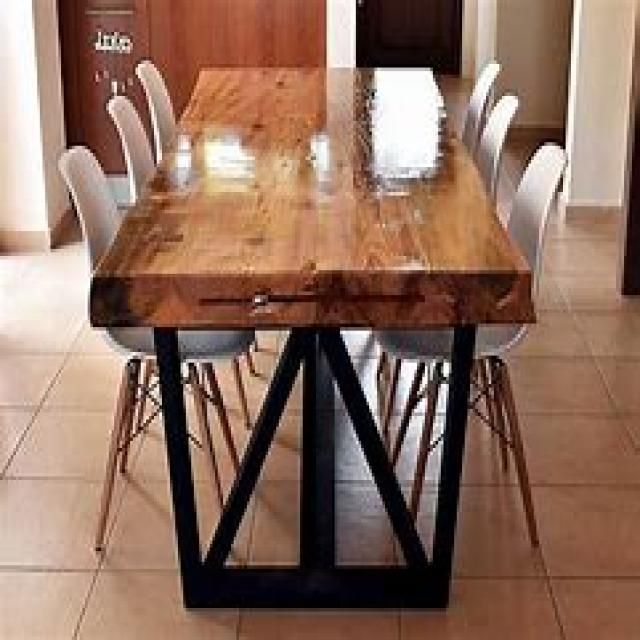chair: (56, 142, 258, 548), (385, 139, 566, 544)
table: (88, 60, 536, 608)
